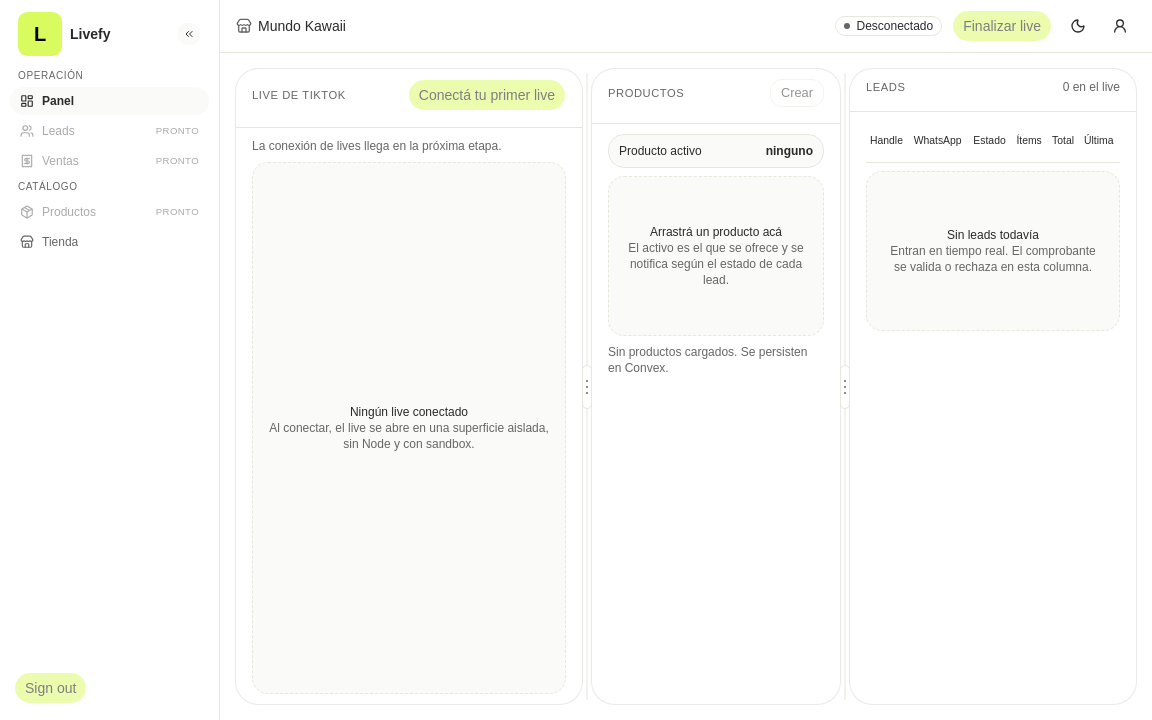
it: panel — dashboard chrome › opens the account menu with exactly the three entries
This screenshot has width=1152, height=720.
Click the button named "Menú de la cuenta". click: (1120, 26)
box: [1104,10,1136,42]
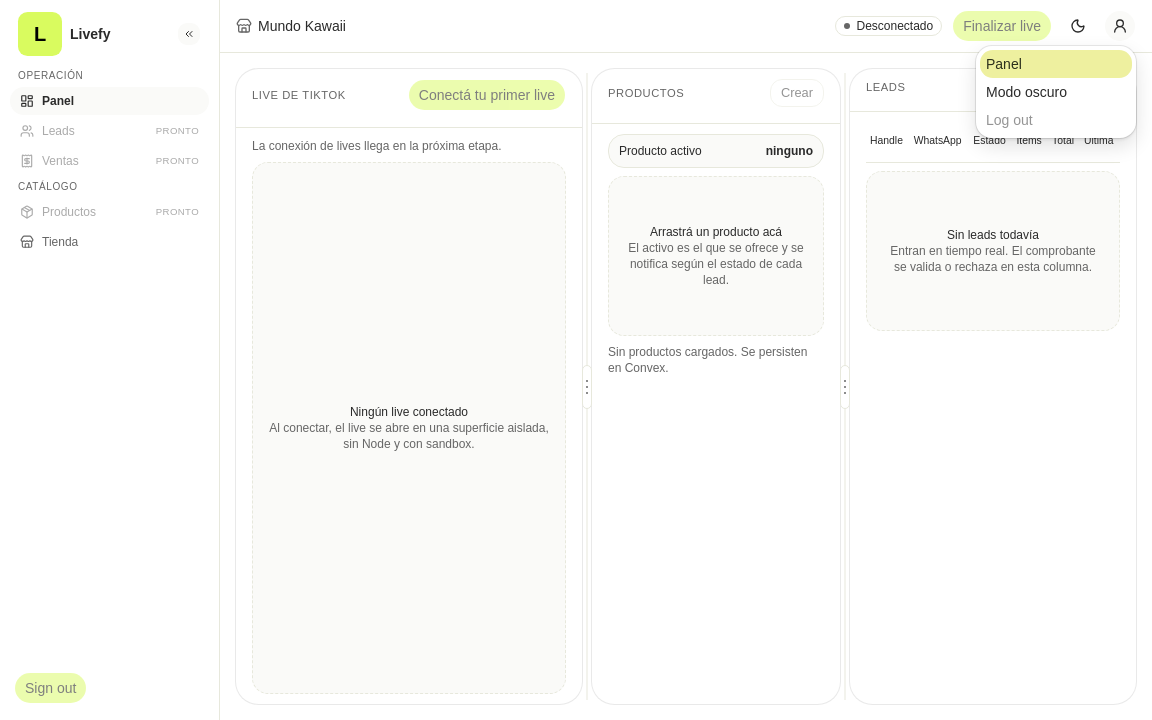
Check: the menu items read "Panel", "Modo oscuro", "Log out", in this order, box [980,50,1132,78]; [986,84,1067,100]; [986,112,1033,128]
